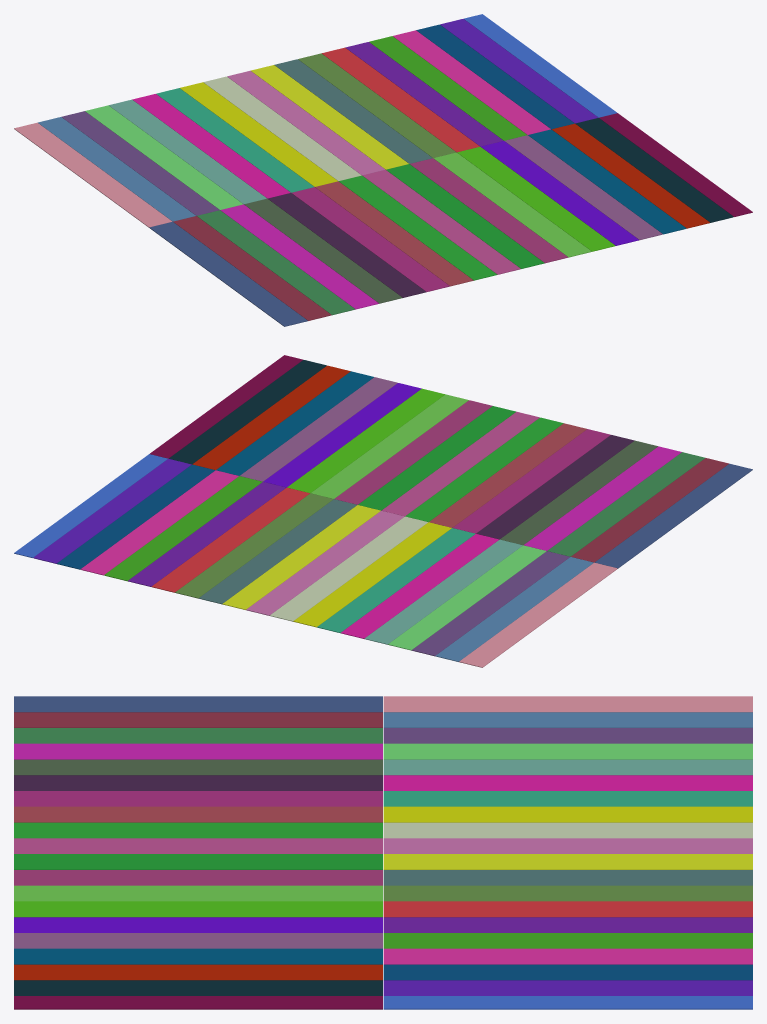
Rendered from generic_boards01.fbx.
3 renders of one model, top to bottom at view 1: azimuth 30°, elevation 25°; view 2: azimuth 150°, elevation 25°; view 3: azimuth 270°, elevation 25°, orthographic. The views are drawn at different scales.
Parts seen in each view (by area): view 1: Ceiling; view 2: Ceiling; view 3: Ceiling.
Part boxes in pixels (bbox=[...]): Ceiling: bbox=[14, 14, 752, 326]; Ceiling: bbox=[14, 355, 752, 667]; Ceiling: bbox=[14, 696, 752, 1009].
Size of the model in its own units: 400 by 400 by 0.5.
